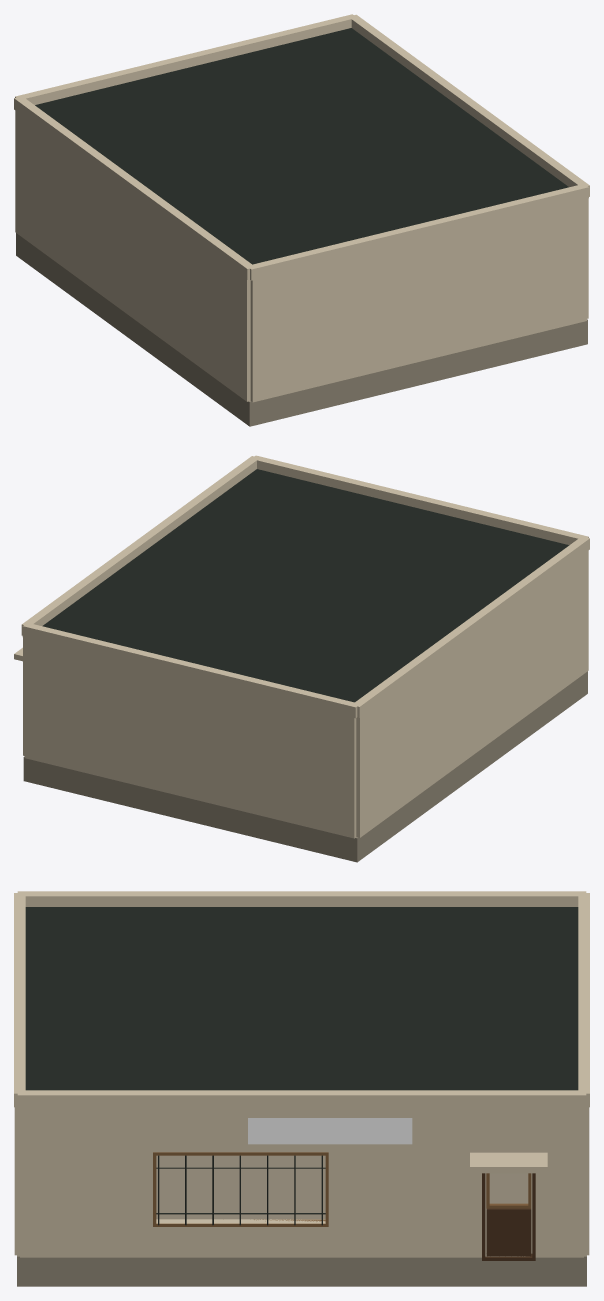
File: SM_Town_Sheriff_Shell_LOD2.fbx
The picture shows the model from 3 angles, top to bottom: view 1: azimuth 30°, elevation 25°; view 2: azimuth 150°, elevation 25°; view 3: azimuth 270°, elevation 25°; orthographic projection. The views are drawn at different scales.
Visible parts, largest first — view 1: SM_Town_Sheriff_Shell_LOD2; view 2: SM_Town_Sheriff_Shell_LOD2; view 3: SM_Town_Sheriff_Shell_LOD2.
Boxes of the visible parts, bbox=[...] form: SM_Town_Sheriff_Shell_LOD2: bbox=[14, 14, 589, 426]; SM_Town_Sheriff_Shell_LOD2: bbox=[14, 455, 589, 862]; SM_Town_Sheriff_Shell_LOD2: bbox=[14, 891, 589, 1286].
Size of the model in its own units: 10.96 by 12.25 by 4.52.
